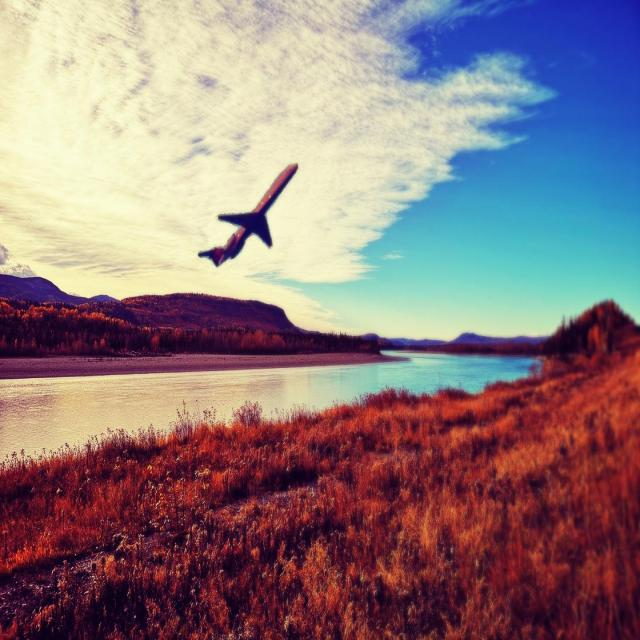airplane: (197, 161, 298, 267)
